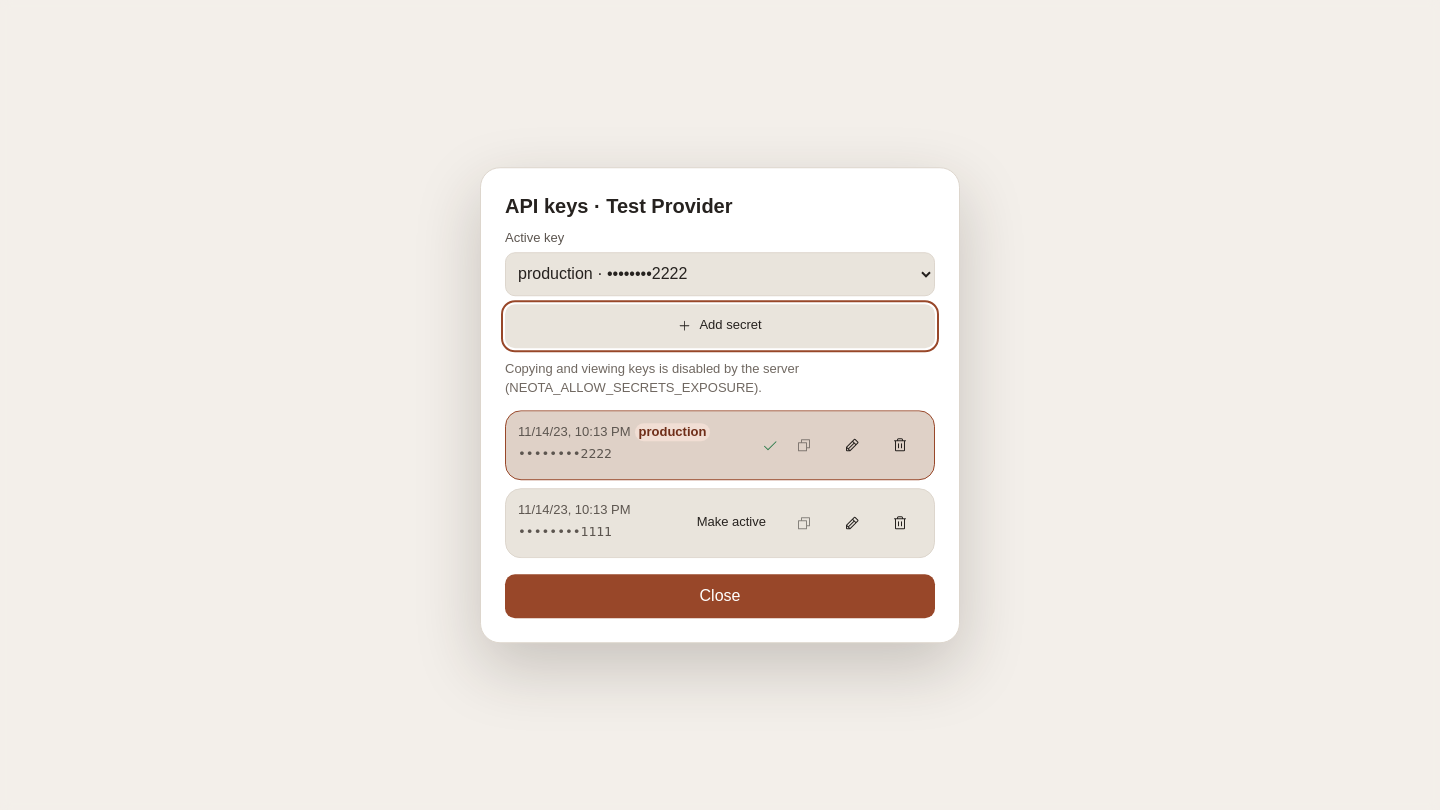
ApiKeysModal › creates a secret from the add form and posts the value
expect the text "••••••••2222" is shown: met, box x1=518 y1=447 x2=612 y2=462
Click the button "Add secret" at (720, 326), box x1=505 y1=304 x2=935 y2=348
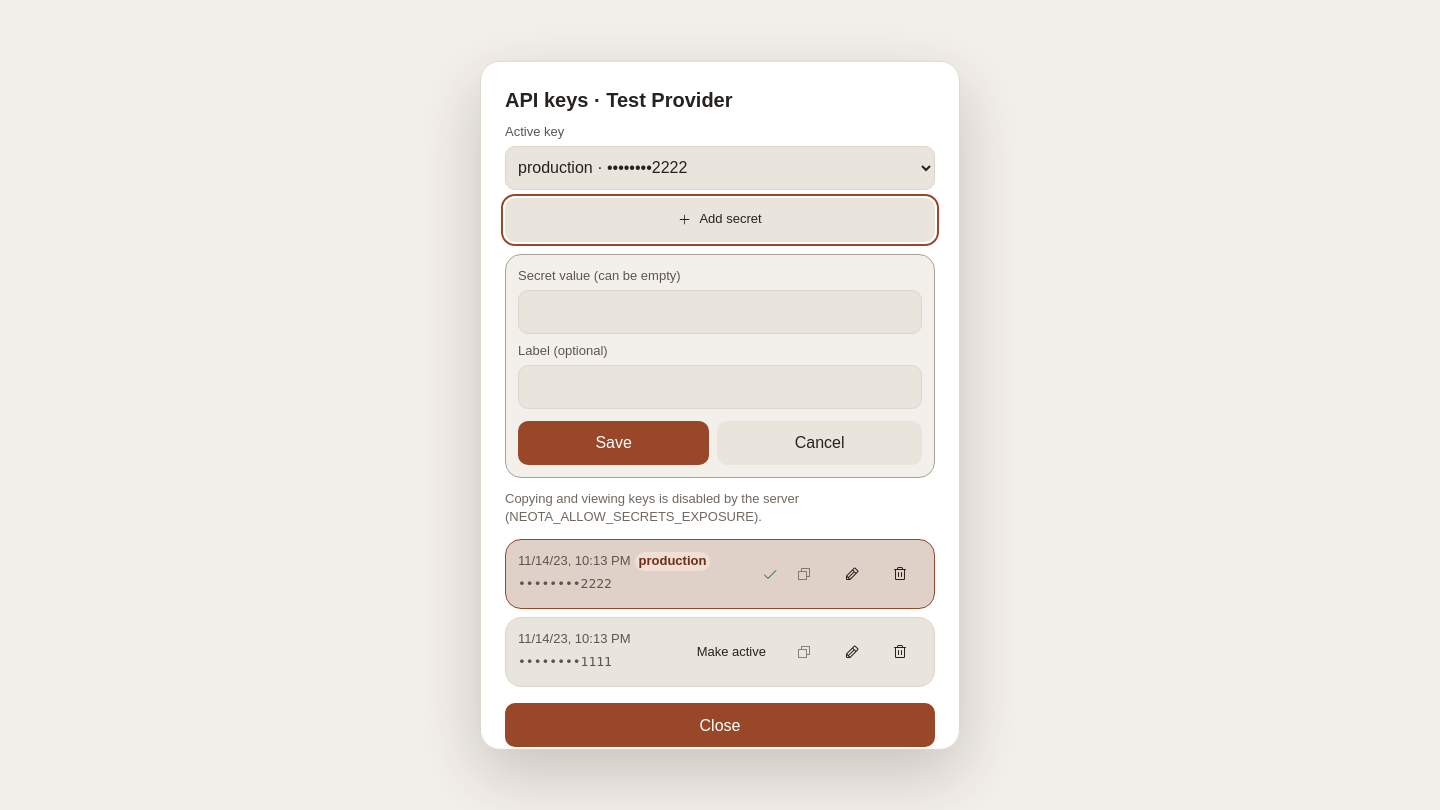
Type "sk-brand-new" into the password field labelled "Secret value (can be empty)" at (720, 311), box x1=518 y1=289 x2=922 y2=333
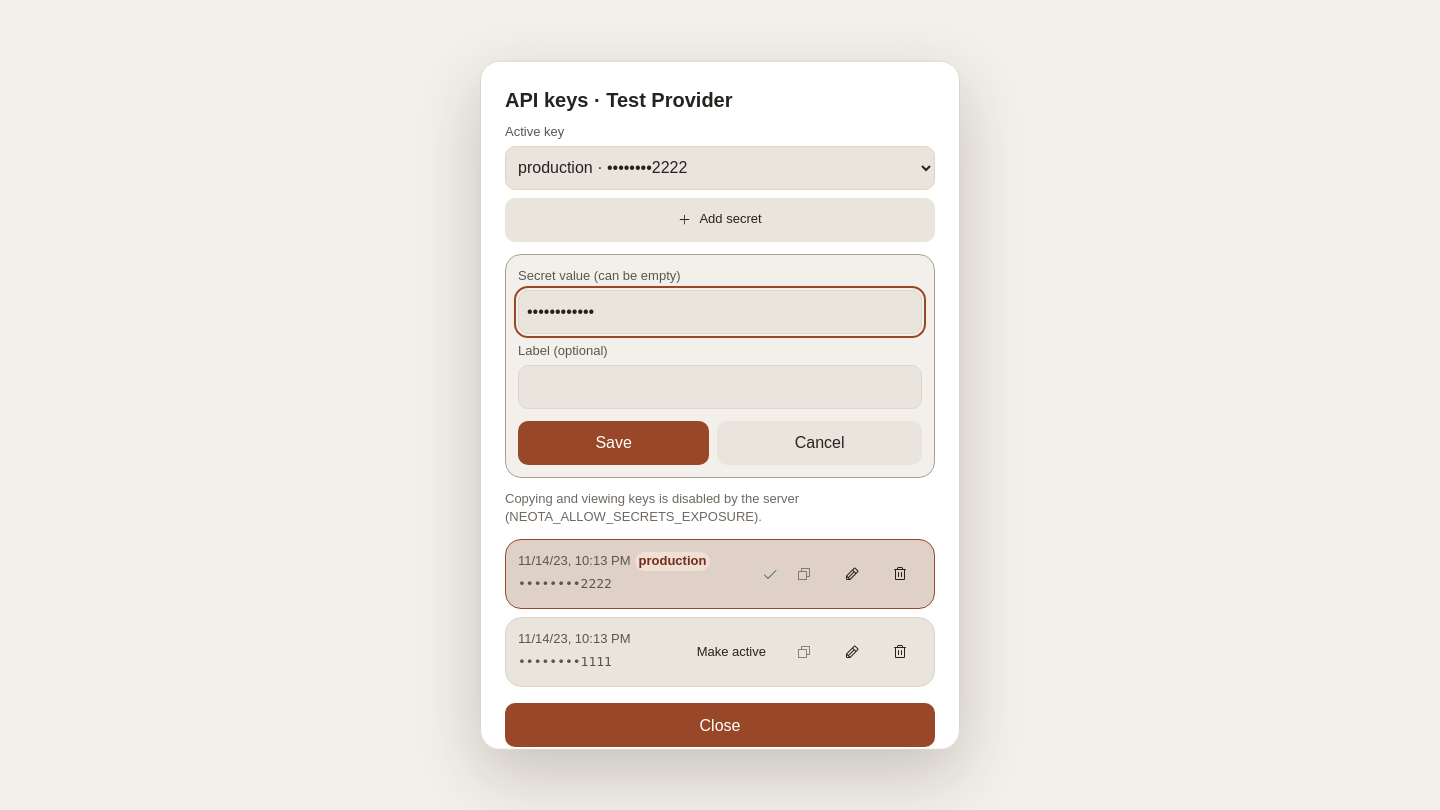
Type "staging" into the field labelled "Label (optional)" at (720, 386), box x1=518 y1=364 x2=922 y2=408
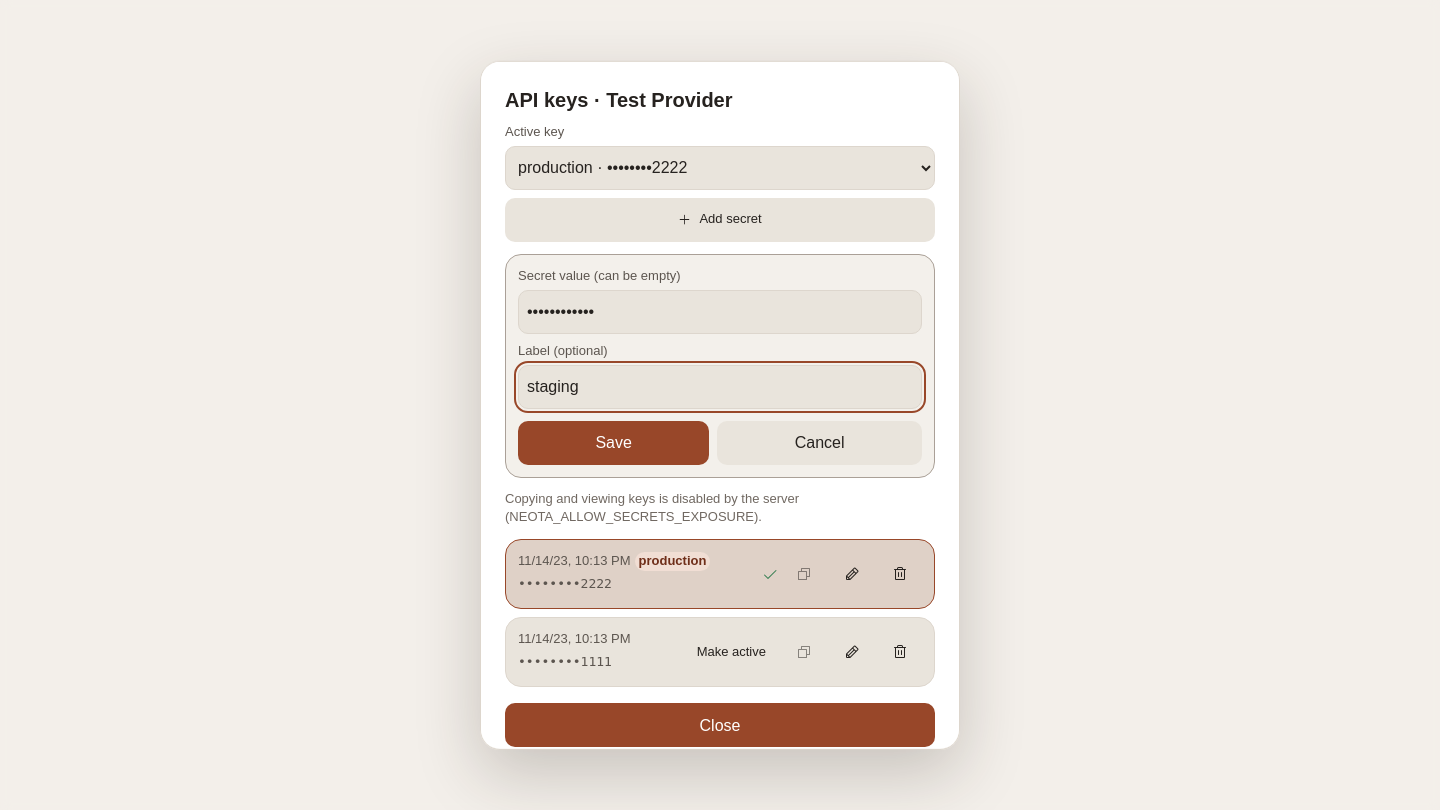
Click the button "Save" at (614, 442), box x1=518 y1=420 x2=709 y2=464
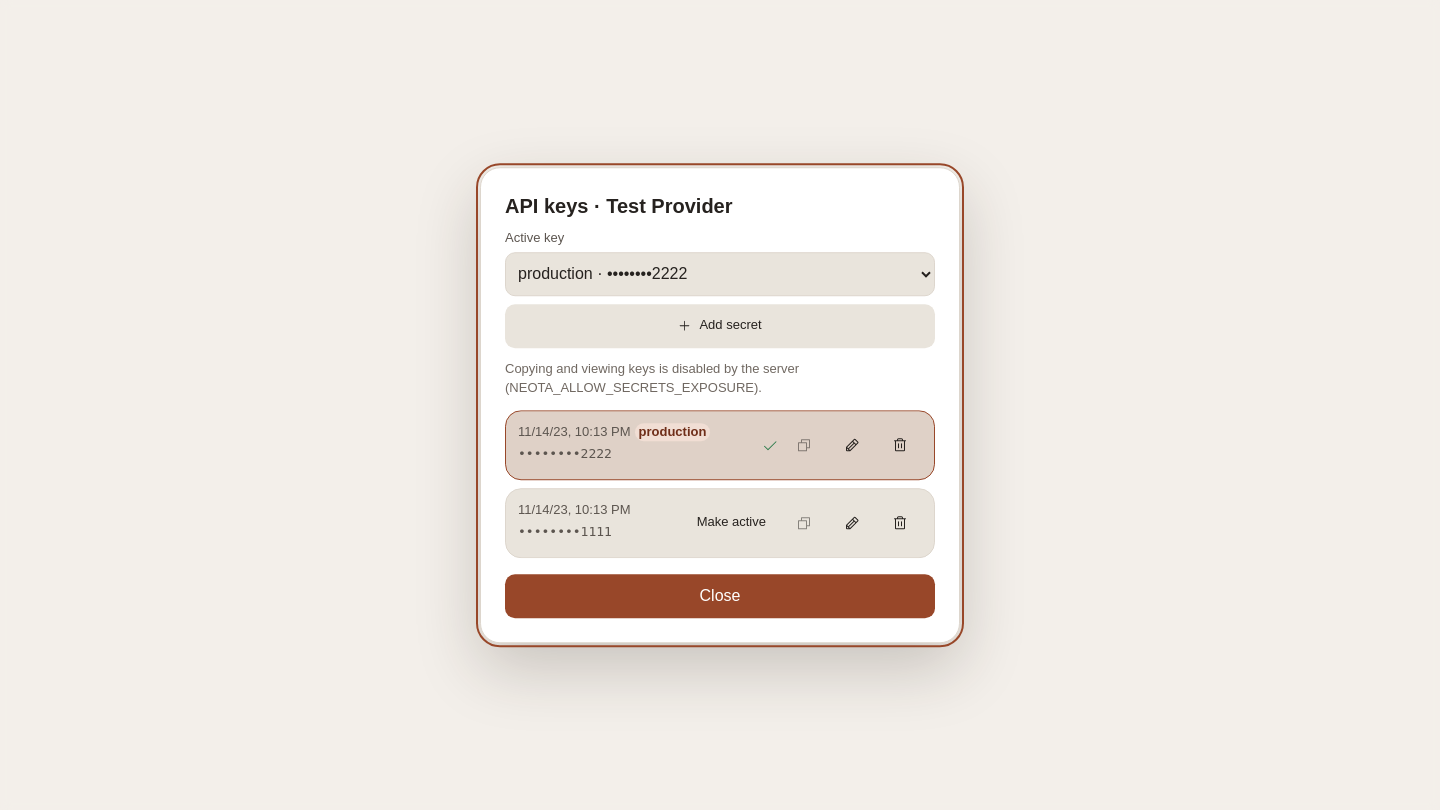
expect the text labelled "Secret value (can be empty)" is gone: met
